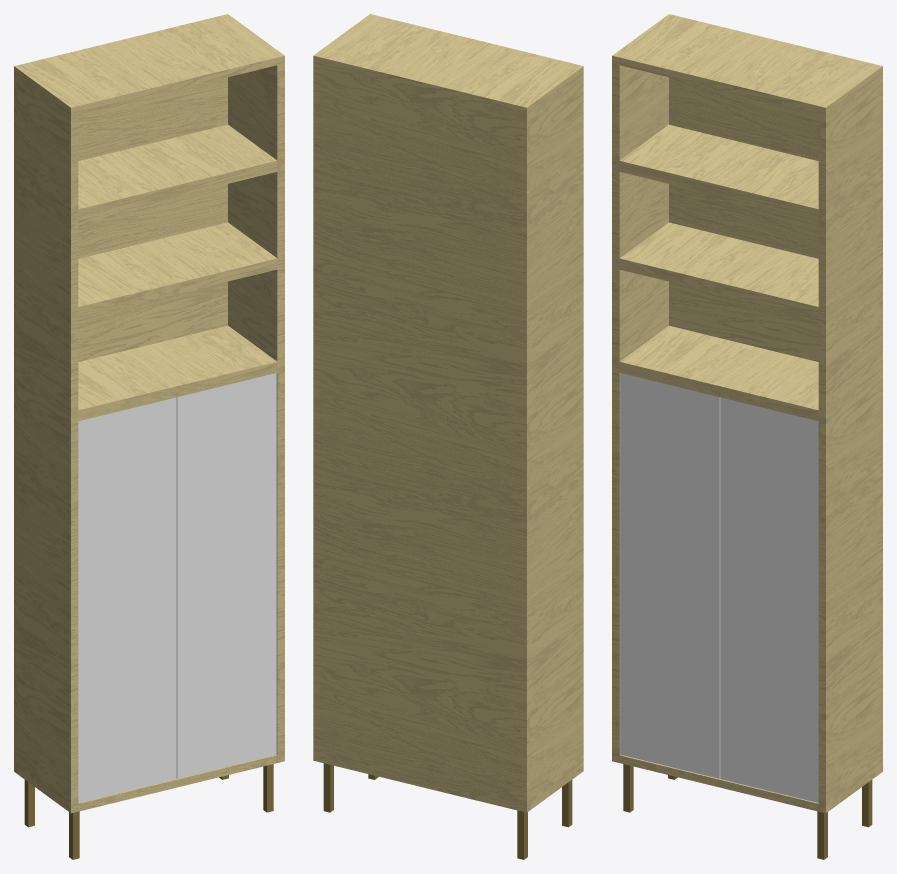
File: cabinet.glb
The picture shows the model from 3 angles, left to right: view 1: azimuth 30°, elevation 25°; view 2: azimuth 150°, elevation 25°; view 3: azimuth 330°, elevation 25°; orthographic projection.
Parts seen in each view (by area): view 1: shelving_unit_206, shelving_unit_door_206_2, shelving_unit_door_206_1; view 2: shelving_unit_206; view 3: shelving_unit_206, shelving_unit_door_206_1, shelving_unit_door_206_2.
Part boxes in pixels (x1,y1,x2,y2): shelving_unit_206: (14, 14, 284, 859); shelving_unit_door_206_2: (176, 373, 276, 778); shelving_unit_door_206_1: (78, 397, 176, 802); shelving_unit_206: (313, 14, 583, 859); shelving_unit_206: (612, 14, 882, 859); shelving_unit_door_206_1: (620, 373, 720, 778); shelving_unit_door_206_2: (720, 397, 818, 802).
Size of what is drawn, in the model's own units: 0.65 by 2.2 by 0.3.
3 materials, 1 textured.
